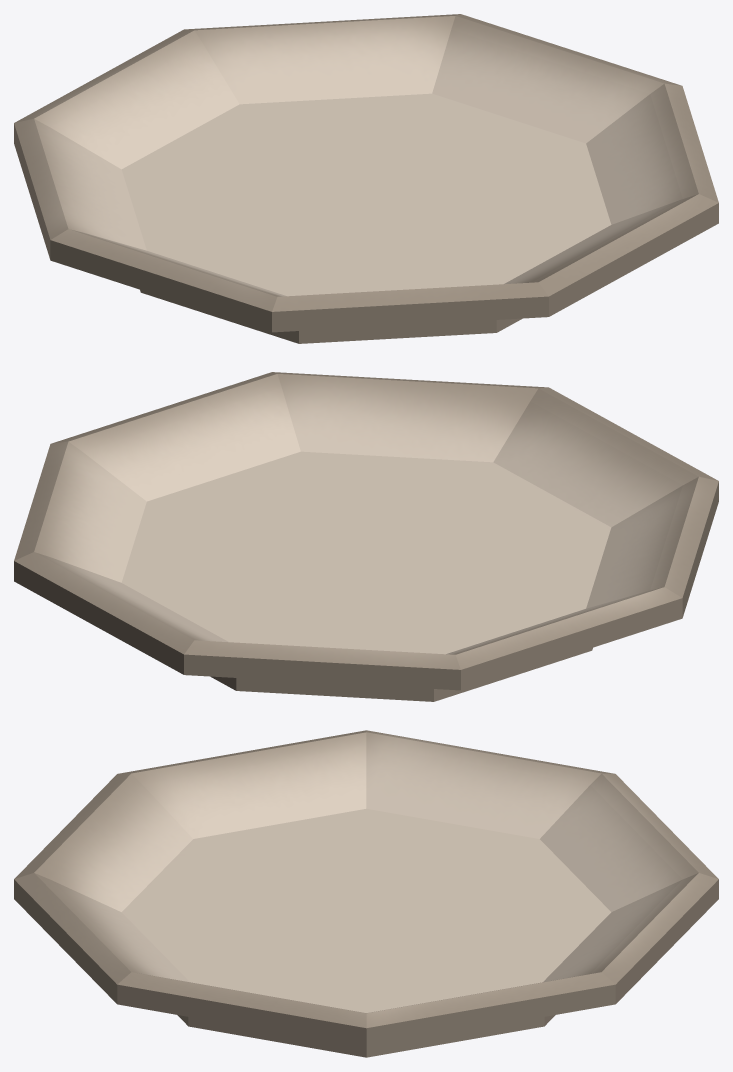
File: SM_plate.fbx
The picture shows the model from 3 angles, top to bottom: view 1: azimuth 30°, elevation 25°; view 2: azimuth 150°, elevation 25°; view 3: azimuth 270°, elevation 25°; orthographic projection. The views are drawn at different scales.
Parts seen in each view (by area): view 1: SM_plate; view 2: SM_plate; view 3: SM_plate.
Boxes of the visible parts, <box> form: SM_plate: <box>14,14,718,343</box>; SM_plate: <box>14,372,718,701</box>; SM_plate: <box>14,730,718,1057</box>.
Size of the model in its own units: 0.8372 by 0.1028 by 0.8372.
